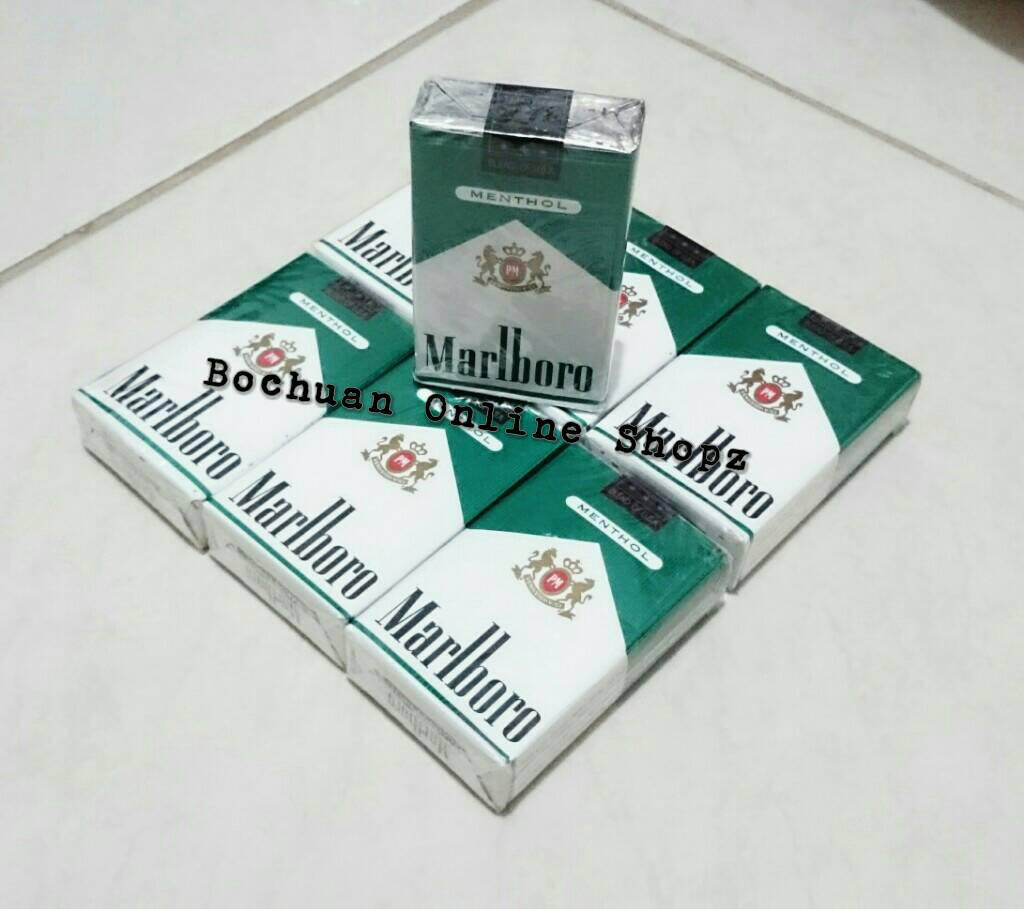marlboro_mentol: (387, 478, 710, 737), (95, 261, 416, 478), (236, 391, 508, 596), (634, 296, 882, 506), (410, 137, 618, 386), (610, 212, 749, 347)
